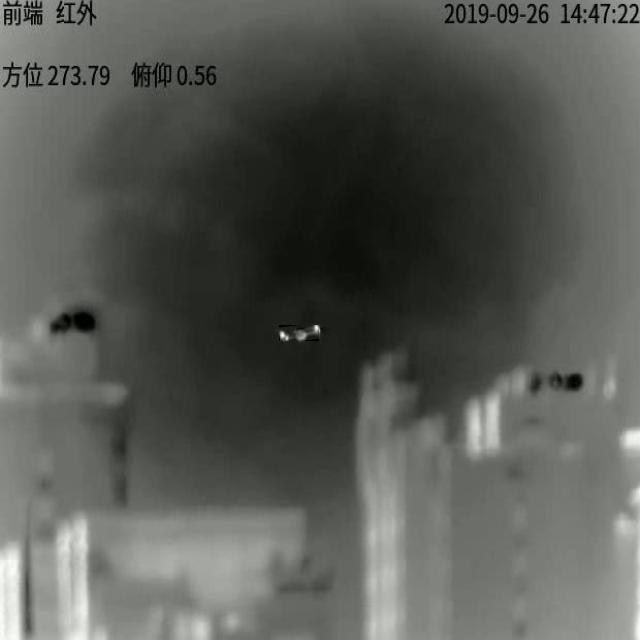drone: (279, 325, 319, 341)
